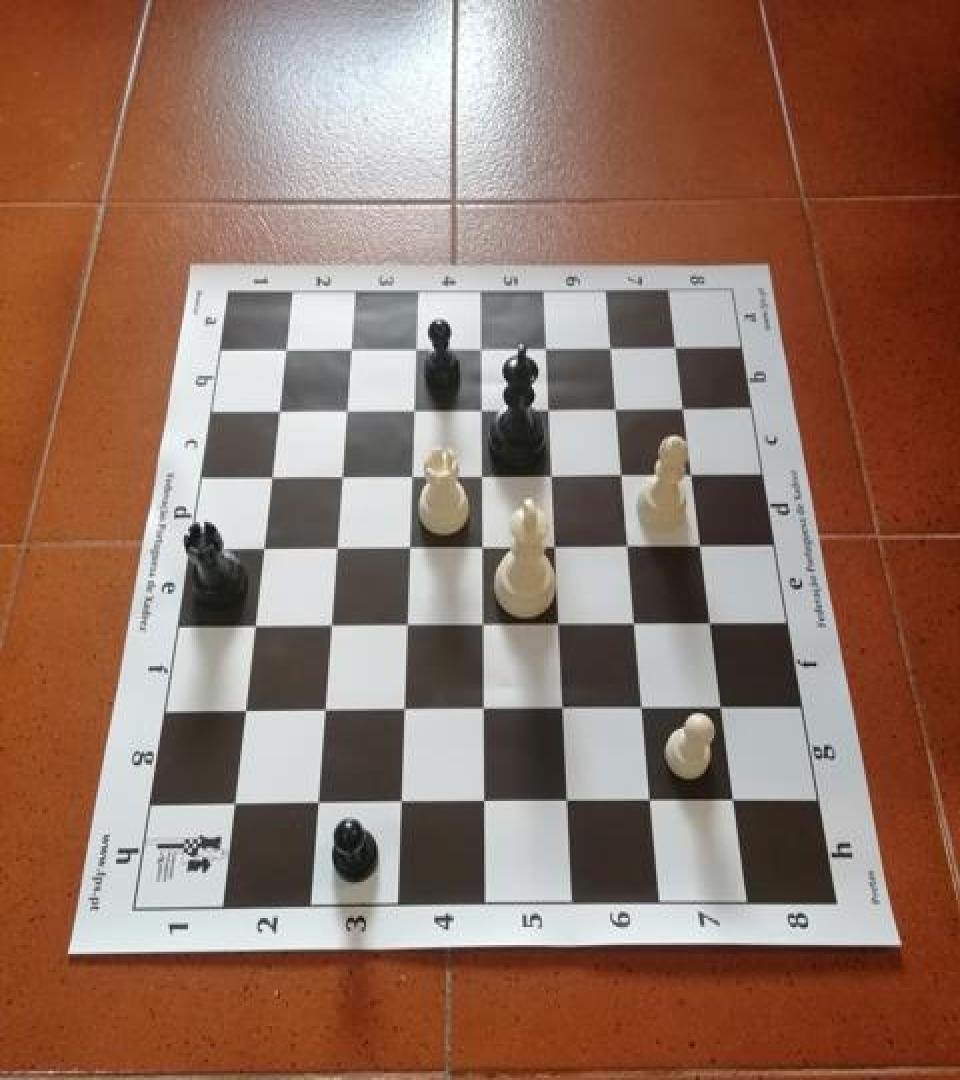xcorner: (663, 330, 693, 364), (597, 330, 627, 364), (532, 330, 562, 364), (466, 332, 496, 366), (400, 332, 430, 366), (335, 333, 365, 367), (270, 333, 300, 367), (670, 392, 700, 426), (602, 392, 632, 426), (534, 392, 564, 426), (466, 394, 496, 428), (398, 394, 428, 428), (330, 395, 360, 429), (262, 395, 292, 429), (679, 458, 709, 492), (608, 459, 638, 493), (537, 459, 567, 493), (467, 460, 497, 494), (396, 460, 426, 494), (325, 461, 355, 495), (255, 461, 285, 495), (688, 530, 718, 564), (614, 531, 644, 565), (540, 531, 570, 565), (467, 532, 497, 566), (393, 532, 423, 566), (320, 533, 350, 567), (246, 533, 276, 567), (621, 610, 651, 644), (544, 610, 574, 644), (467, 610, 497, 644), (390, 611, 420, 645), (314, 611, 344, 645), (237, 612, 267, 646), (708, 694, 738, 728), (628, 694, 658, 728), (548, 695, 578, 729), (468, 695, 498, 729), (387, 696, 417, 730), (307, 696, 337, 730), (227, 698, 257, 732), (720, 786, 750, 820), (636, 788, 666, 822), (552, 788, 582, 822), (468, 788, 498, 822), (384, 788, 414, 822), (300, 790, 330, 824), (217, 790, 247, 824), (697, 609, 727, 642)
